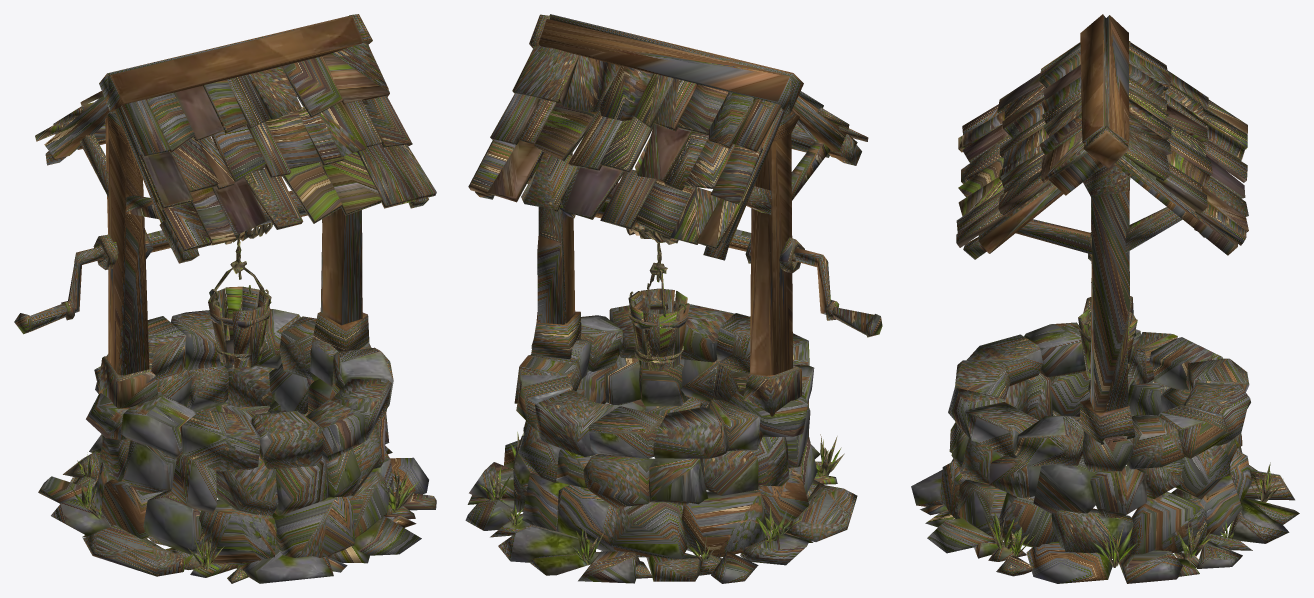
The model's file is well.glb.
3 views of the same model, side by side, from view 1: azimuth 30°, elevation 25°; view 2: azimuth 150°, elevation 25°; view 3: azimuth 270°, elevation 25° (orthographic). The views are drawn at different scales.
Size of the model in its own units: 0.8284 by 0.9521 by 0.7721.
Materials: 1 (1 with a texture image).
